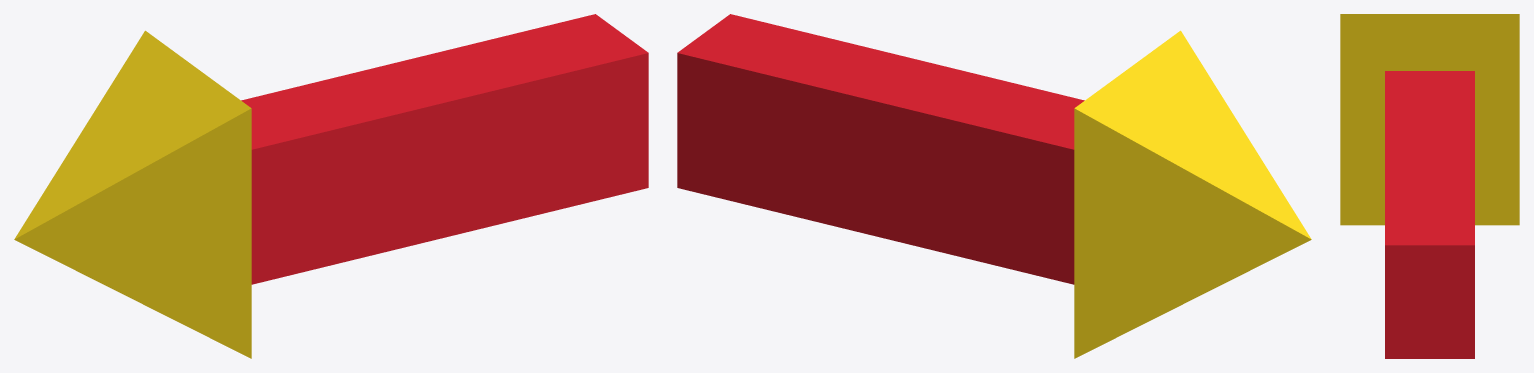
Rendered from tinker.obj.
3 views of the same model, side by side, from view 1: azimuth 30°, elevation 25°; view 2: azimuth 150°, elevation 25°; view 3: azimuth 270°, elevation 25° (orthographic). The views are drawn at different scales.
Visible parts, largest first — view 1: group_0_15277357, group_0_16768282; view 2: group_0_15277357, group_0_16768282; view 3: group_0_15277357, group_0_16768282.
Part boxes in pixels (x1,y1,x2,y2): group_0_15277357: (241,14,648,284); group_0_16768282: (14,30,251,358); group_0_15277357: (677,14,1084,284); group_0_16768282: (1074,30,1311,358); group_0_15277357: (1385,71,1474,358); group_0_16768282: (1340,14,1519,225).
Bounding box in the file's own units: 66 × 26 × 20.
